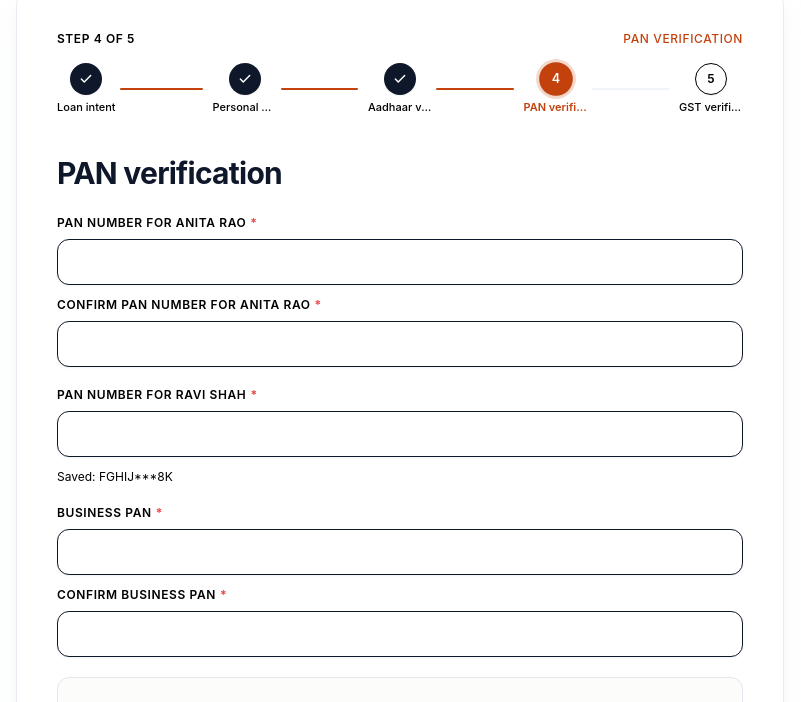
Test: WizardShell Phase 3 browser integration › requires nonblank personal and business PAN confirmations
This screenshot has width=801, height=702.
expect the heading "PAN verification" is shown: met, box [57,155,282,191]
Type "ABCDE1234F" into the field labelled "PAN number for Anita Rao" at [400, 262], box [57,239,743,285]
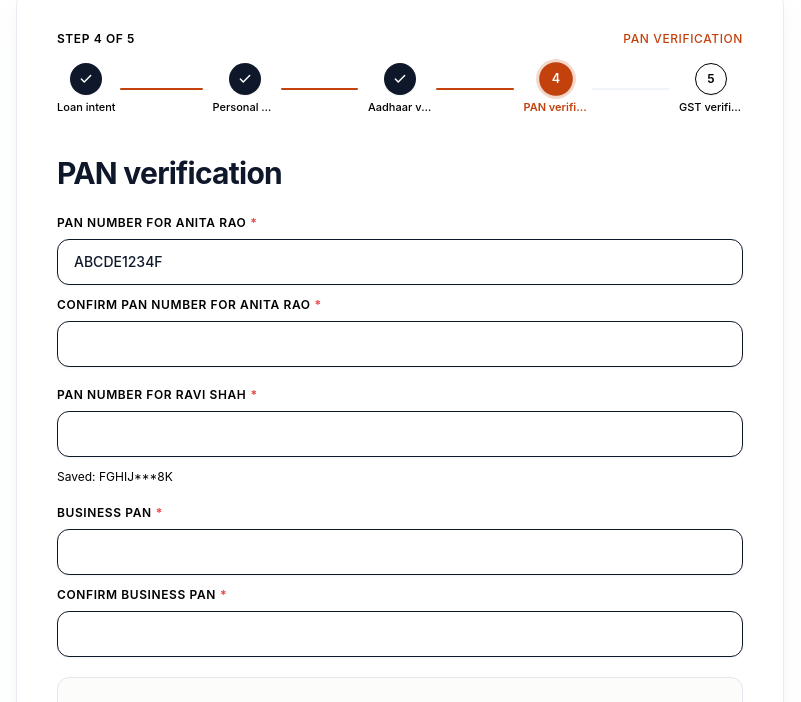
Type "LMNOP9012Q" into the field with id "entity_pan" at [400, 552], box [57,529,743,575]
(page scrolled)
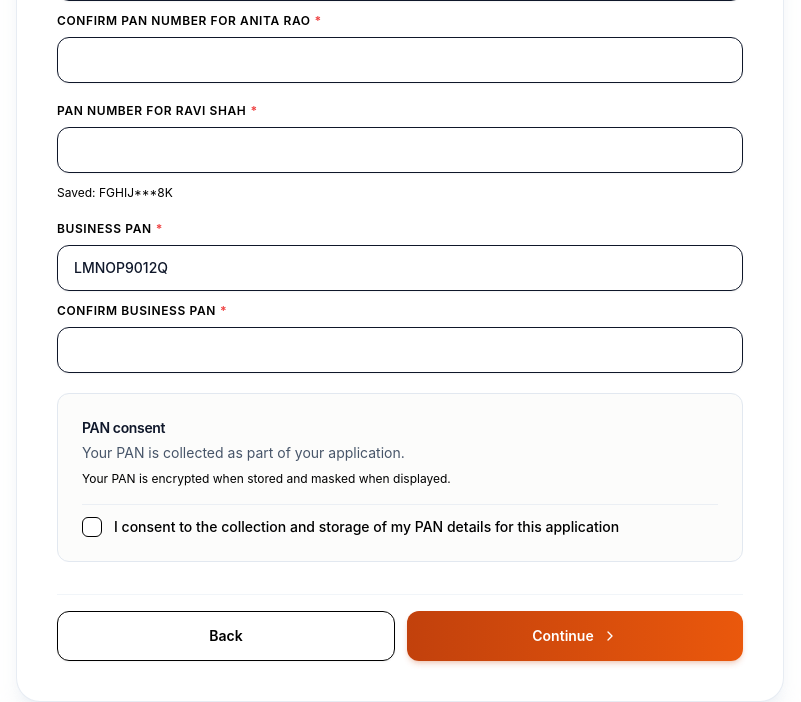
Click the checkbox named "PAN consent" at [400, 520], box [82,504,718,537]
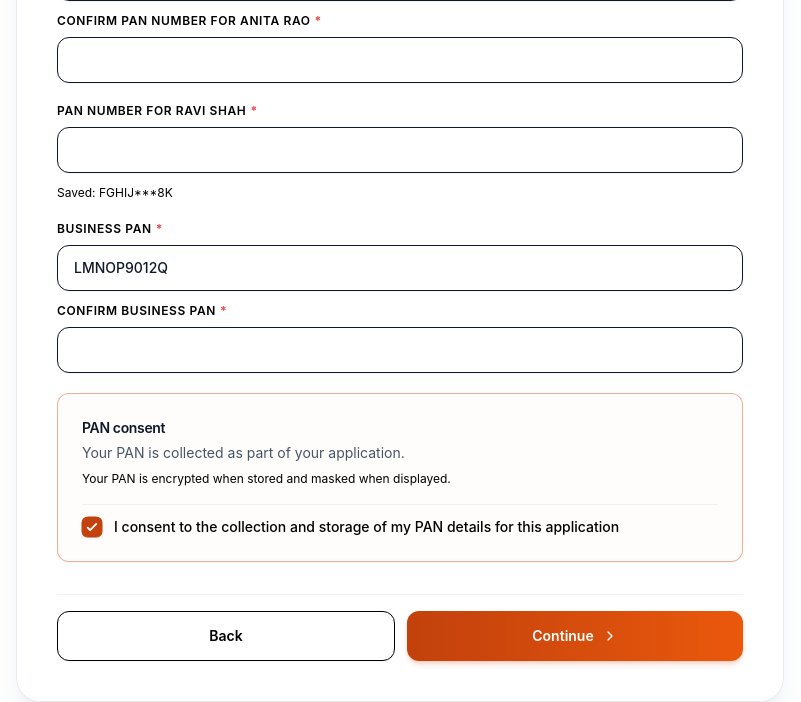
Click the button "Continue" at [575, 636], box [407,611,743,661]
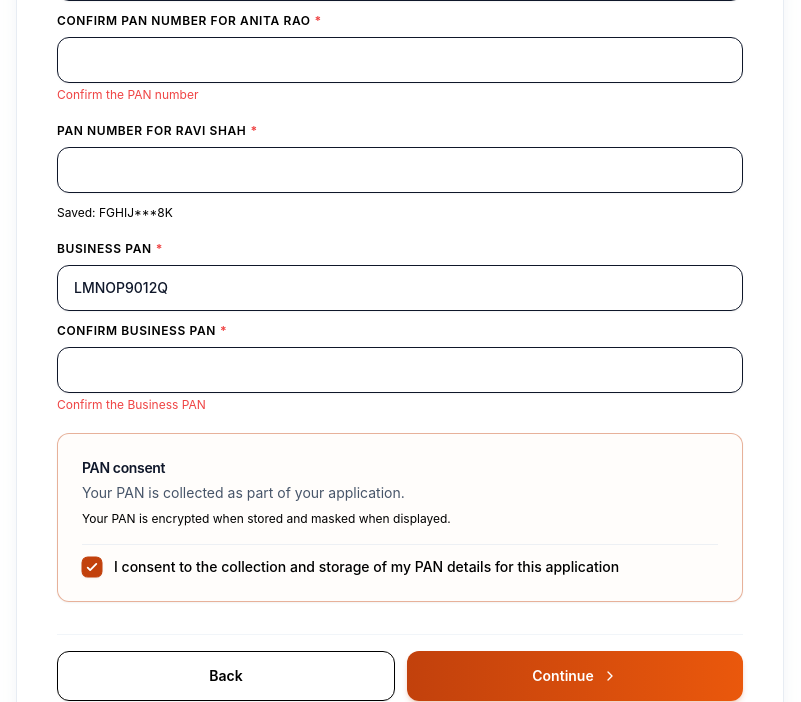
expect the text "Confirm the PAN number" is shown: met, box [57,87,198,102]
expect the text "Confirm the Business PAN" is shown: met, box [57,397,206,412]
